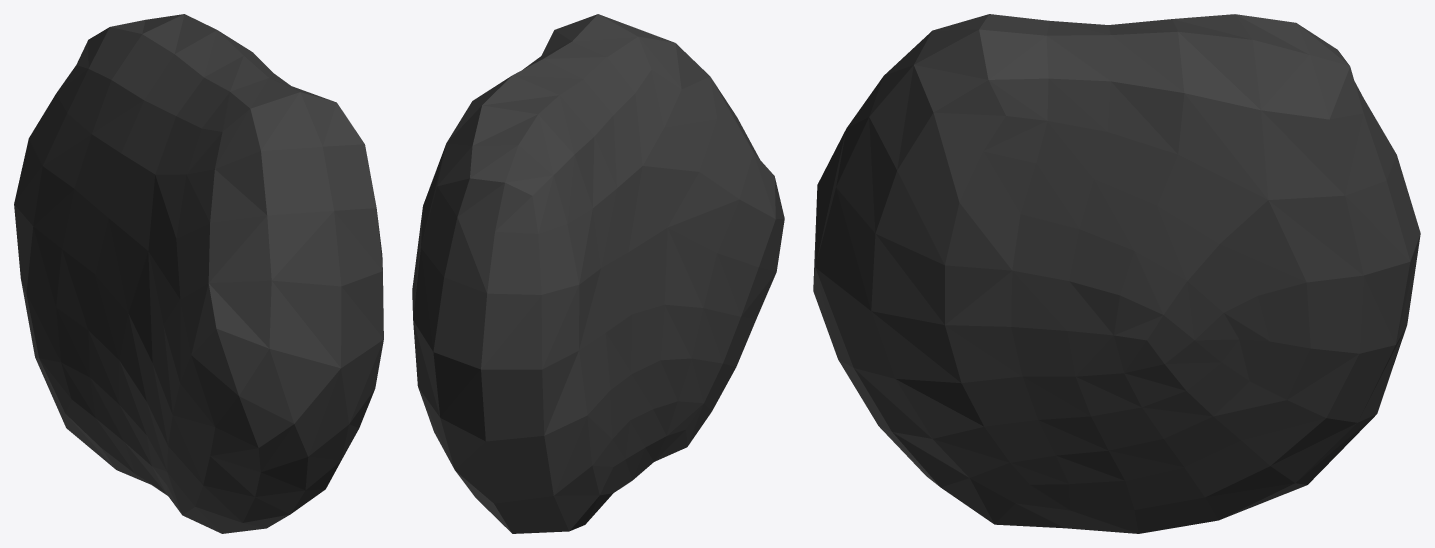
Rendered from LFL_carpal7.glb.
3 views of the same model, side by side, from view 1: azimuth 30°, elevation 25°; view 2: azimuth 150°, elevation 25°; view 3: azimuth 270°, elevation 25° (orthographic). The views are drawn at different scales.
Visible parts, largest first — view 1: LFL_carpal7; view 2: LFL_carpal7; view 3: LFL_carpal7.
Part boxes in pixels (left/top/right/bottom): LFL_carpal7: left=14, top=14, right=383, bottom=533; LFL_carpal7: left=412, top=14, right=784, bottom=533; LFL_carpal7: left=813, top=14, right=1420, bottom=533.
Bounding box in the file's own units: 3.09 × 5.81 × 6.16.
Materials: 1 (1 with a texture image).
